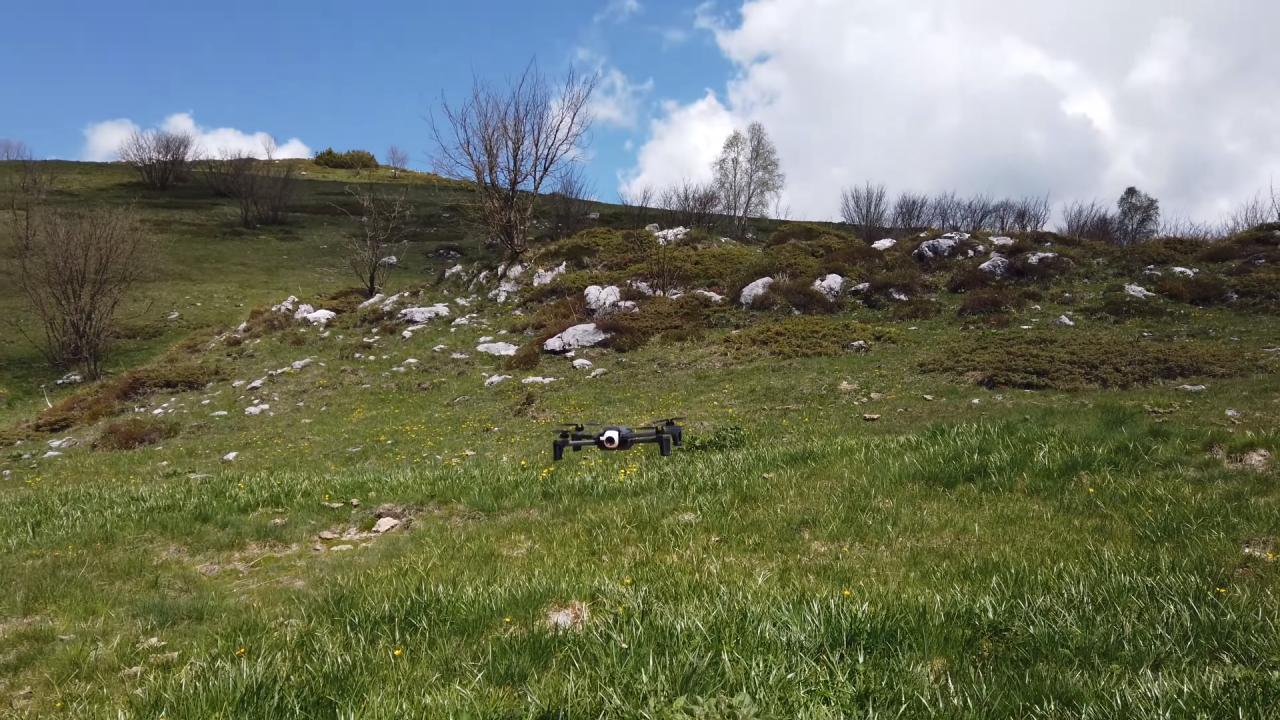Drone: (534, 411, 698, 470)
